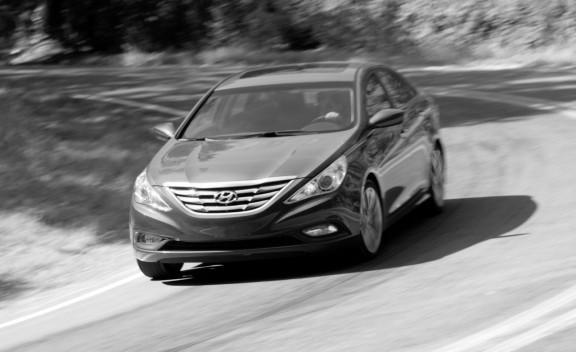car: (127, 59, 449, 284)
